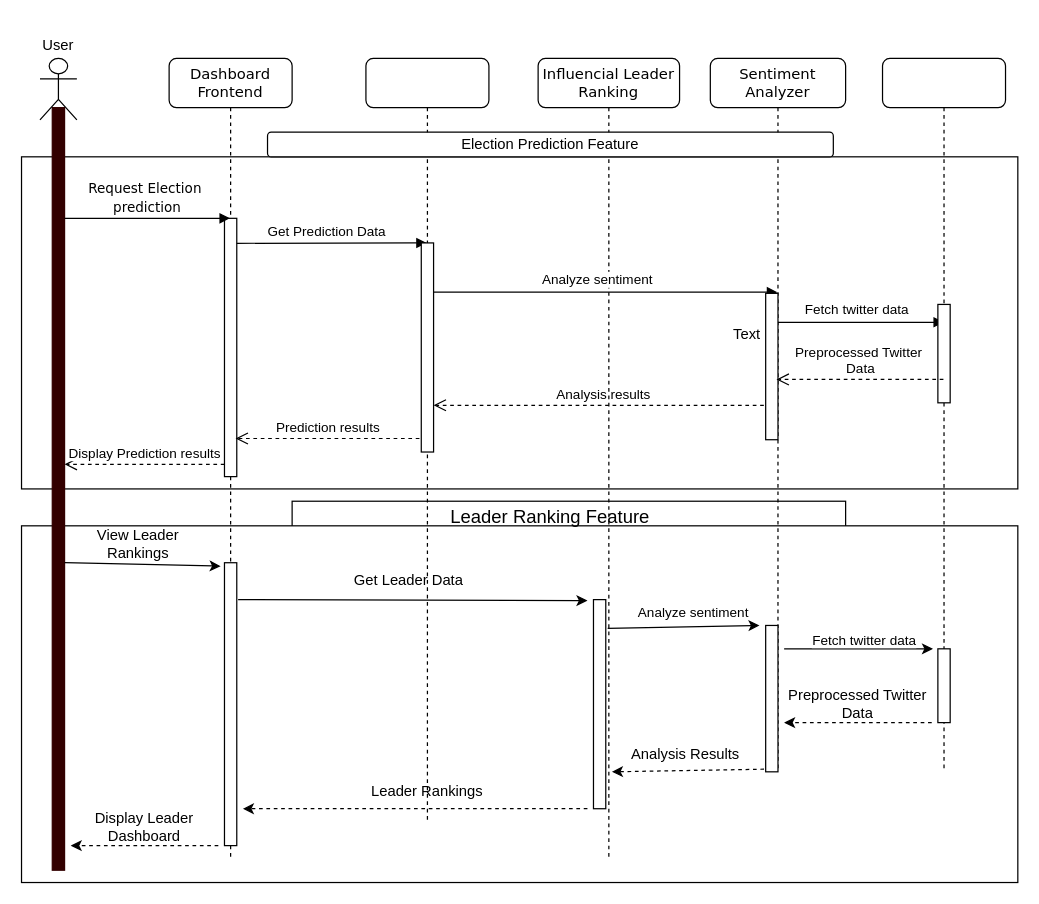
This 1039x904 diagram has some shape labels left out. Here are the shapes that lost their labels. From the top down, the box of each, then its label:
(881, 57, 1006, 772): Database
(365, 57, 489, 821): Election Predictor
